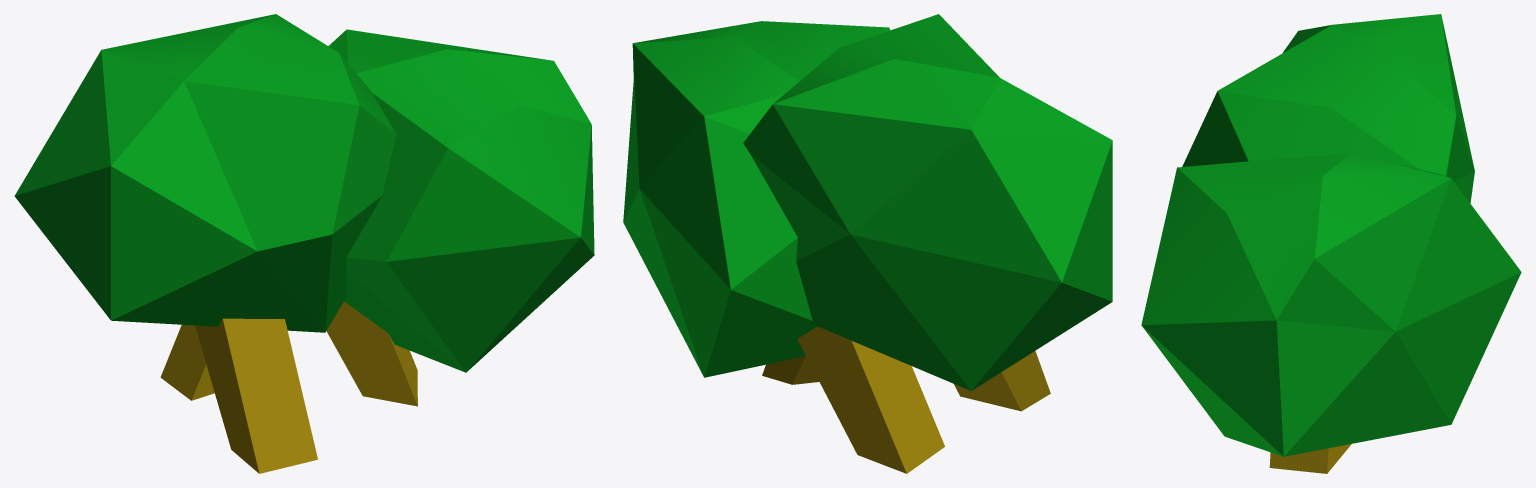
Rendered from Bush2.fbx.
3 renders of one model, left to right at view 1: azimuth 30°, elevation 25°; view 2: azimuth 150°, elevation 25°; view 3: azimuth 270°, elevation 25°, orthographic. The views are drawn at different scales.
Visible parts, largest first — view 1: Bush2; view 2: Bush2; view 3: Bush2.
Boxes of the visible parts, x1,y1,x2,y2 form: Bush2: (14, 14, 594, 473); Bush2: (623, 14, 1112, 473); Bush2: (1141, 14, 1521, 473).
Bounding box in the file's own units: 3.56 × 2.5 × 2.38.
Materials: 1 (1 with a texture image).
